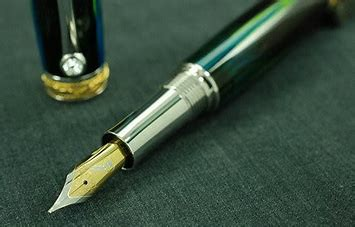pen: (41, 1, 331, 218)
